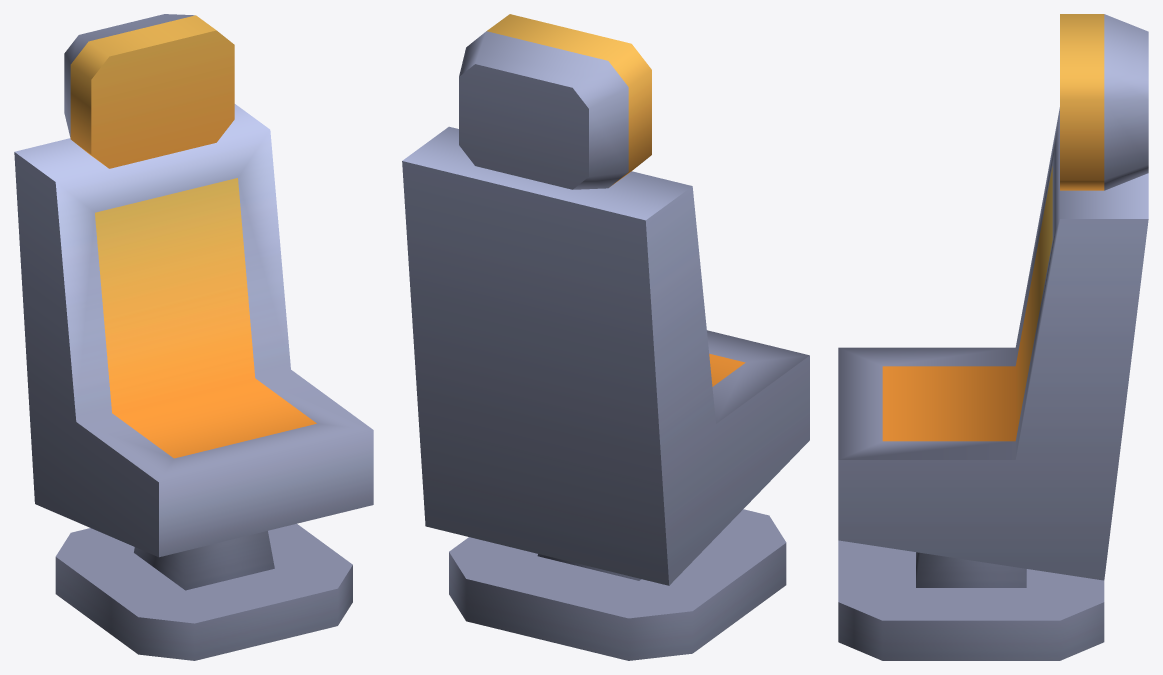
The model's file is kenney-space-station-chair-cushion-headrest.glb.
3 views of the same model, side by side, from view 1: azimuth 30°, elevation 25°; view 2: azimuth 150°, elevation 25°; view 3: azimuth 270°, elevation 25° (orthographic). The views are drawn at different scales.
Parts seen in each view (by area): view 1: chair-cushion-headrest; view 2: chair-cushion-headrest; view 3: chair-cushion-headrest.
Part boxes in pixels (x1,y1,x2,y2): chair-cushion-headrest: (14, 14, 373, 660); chair-cushion-headrest: (402, 14, 809, 660); chair-cushion-headrest: (838, 14, 1148, 660).
Size of the model in its own units: 0.3 by 0.7 by 0.3499.
1 material, 1 textured.
